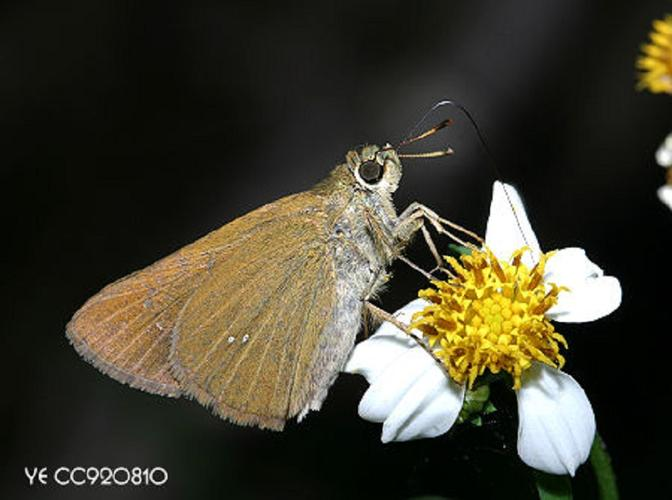Hesperiidae: (60, 96, 491, 429)
